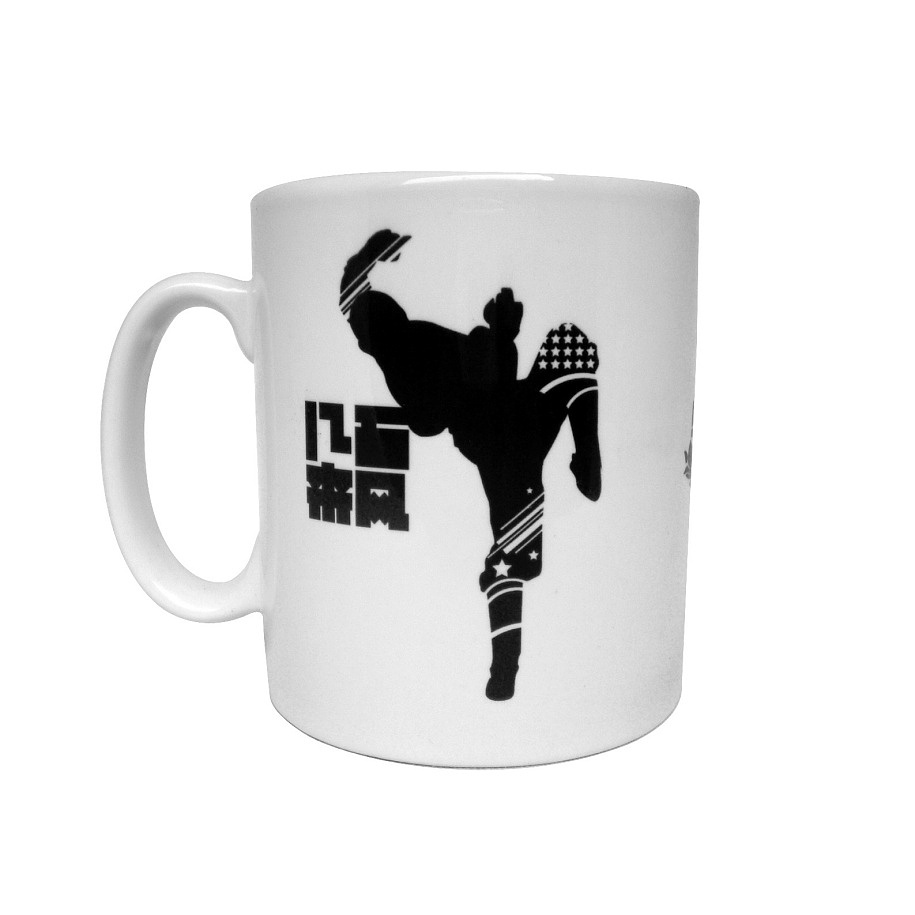cup: (95, 168, 701, 775)
